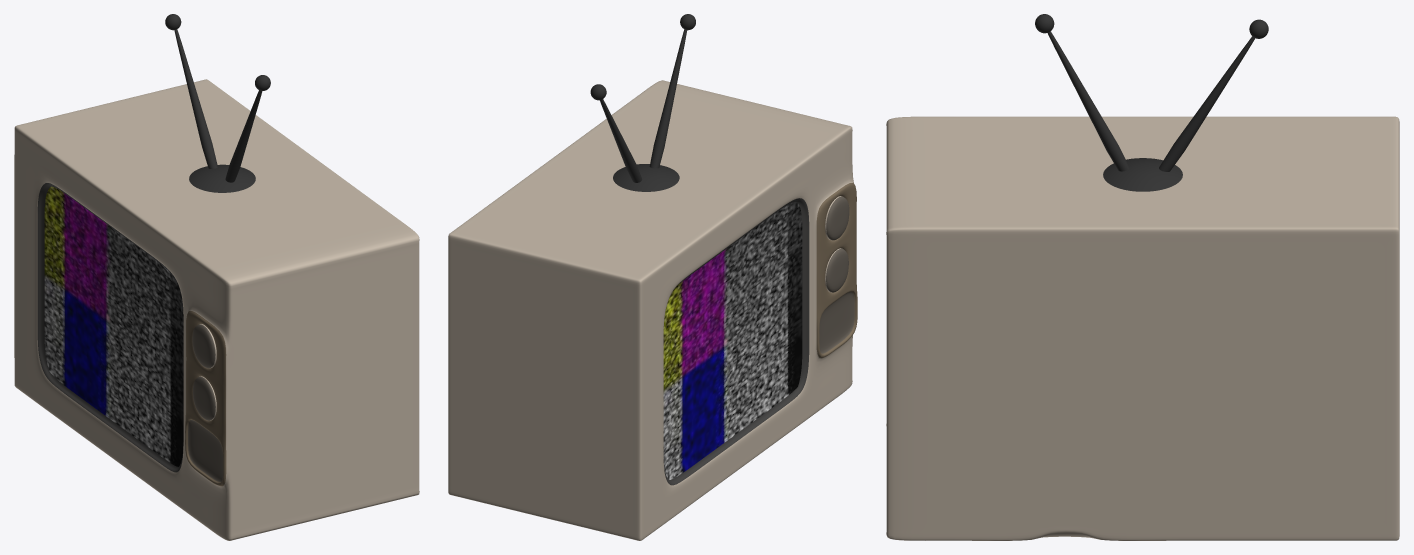
The model's file is tv_fixed.fbx.
The picture shows the model from 3 angles, left to right: view 1: azimuth 30°, elevation 25°; view 2: azimuth 150°, elevation 25°; view 3: azimuth 270°, elevation 25°; orthographic projection. The views are drawn at different scales.
Visible parts, largest first — view 1: pCube2; view 2: pCube2; view 3: pCube2.
Boxes of the visible parts, left/top/right/bottom form: pCube2: left=14, top=14, right=419, bottom=540; pCube2: left=448, top=14, right=857, bottom=540; pCube2: left=886, top=14, right=1399, bottom=540.
Bounding box in the file's own units: 3.2 × 6.04 × 5.94.
Materials: 6 (1 with a texture image).
